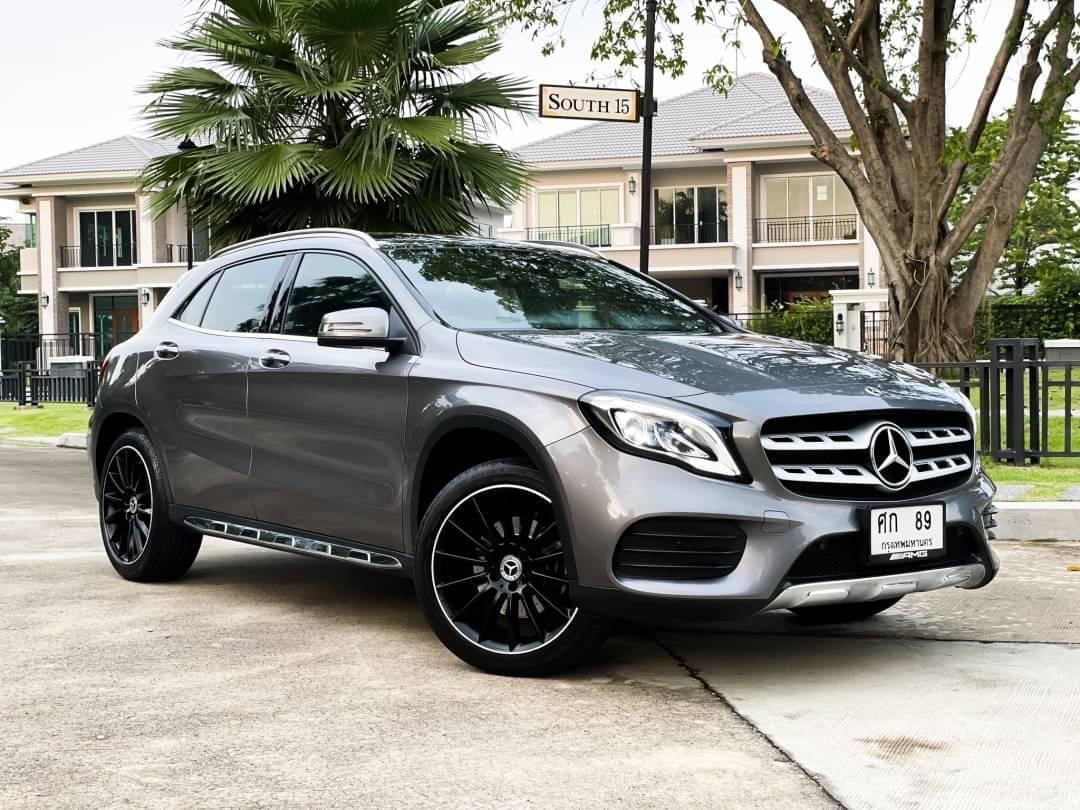license-plate: (863, 499, 949, 561)
